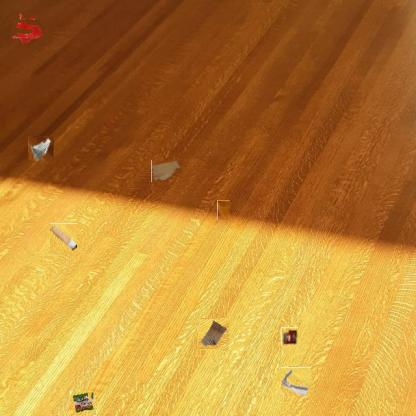dirty: (197, 319, 229, 349), (282, 367, 311, 396), (49, 224, 78, 252), (151, 160, 182, 182), (29, 136, 54, 161), (70, 391, 96, 415), (281, 327, 298, 346)
liquid: (15, 16, 42, 42), (217, 200, 230, 220)
